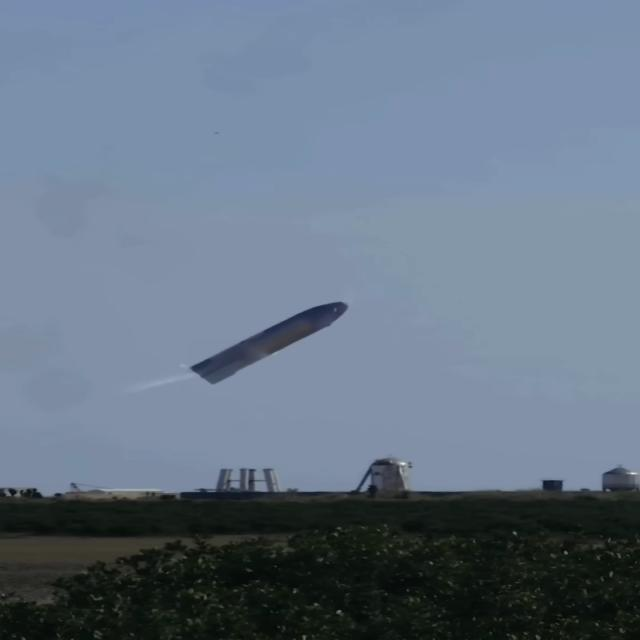Missile: (175, 292, 359, 388)
